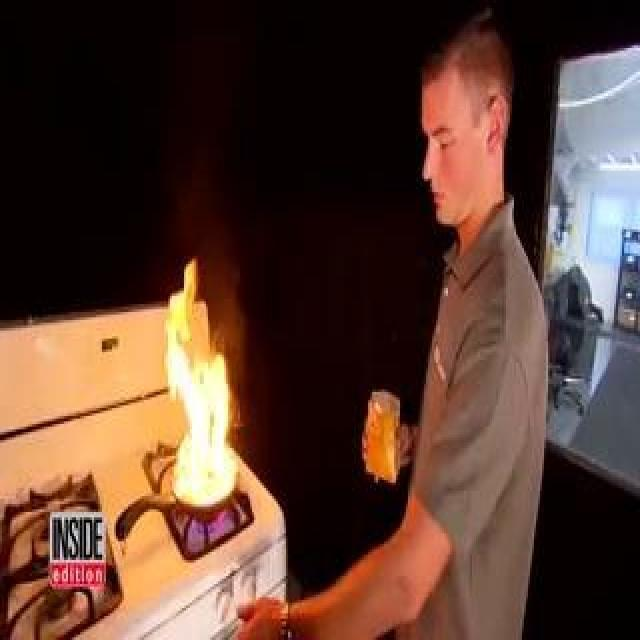Fire: (166, 258, 236, 504)
